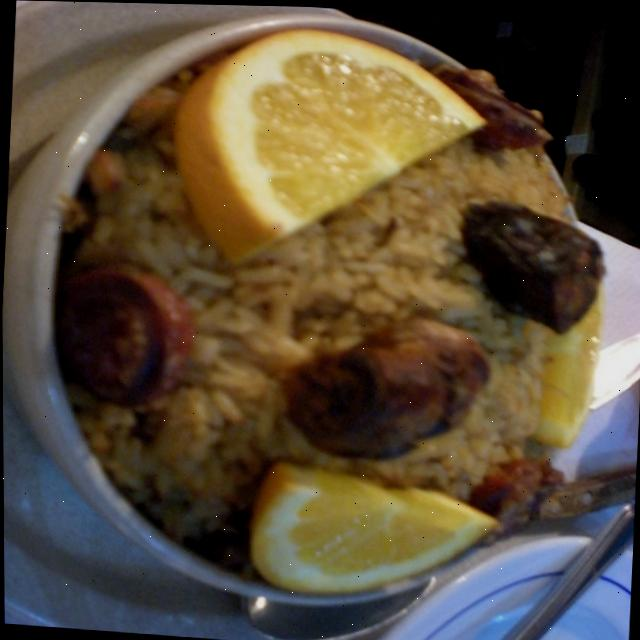米饭主食: (23, 12, 620, 609)
